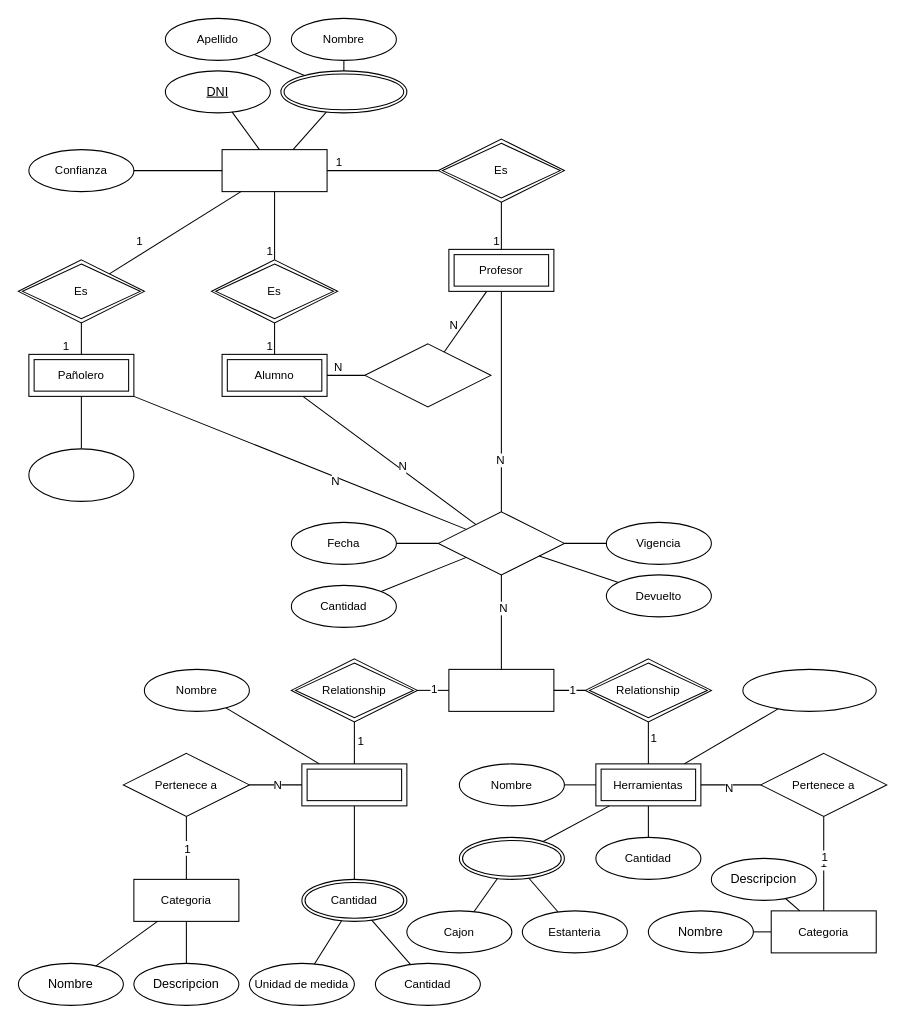
Image size: 905x1024. Some labels were removed from this diagram. Each missing label, with the centre of its shape:
"Cantidad Disponible" goes at (809,689).
"Es alumno de" goes at (427,375).
"Horarios" goes at (81,474).
"Nombre Completo" goes at (343,91).
"Persona" goes at (274,170).
"Posesiones" goes at (501,689).
"Presta a" goes at (500,543).
"Recursos" goes at (354,784).
"Ubicacion" goes at (511,857).
